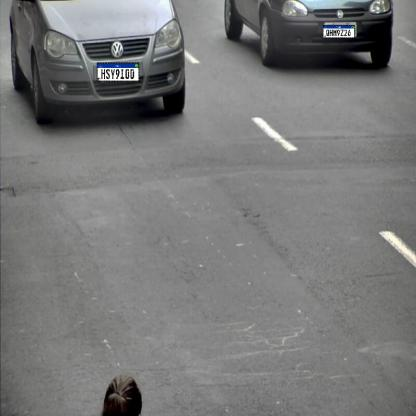PlacaM: (97, 62, 139, 82), (323, 25, 355, 38)
